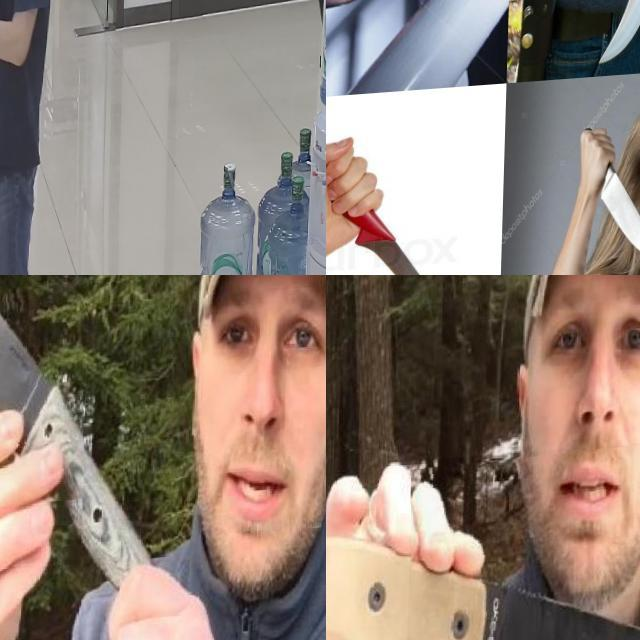-: (407, 443, 640, 640), (0, 275, 99, 519), (326, 150, 487, 275), (352, 0, 440, 86), (591, 130, 640, 273)
gun-knife-thesis - v11 Yolov5 augmented: (0, 6, 24, 68)
